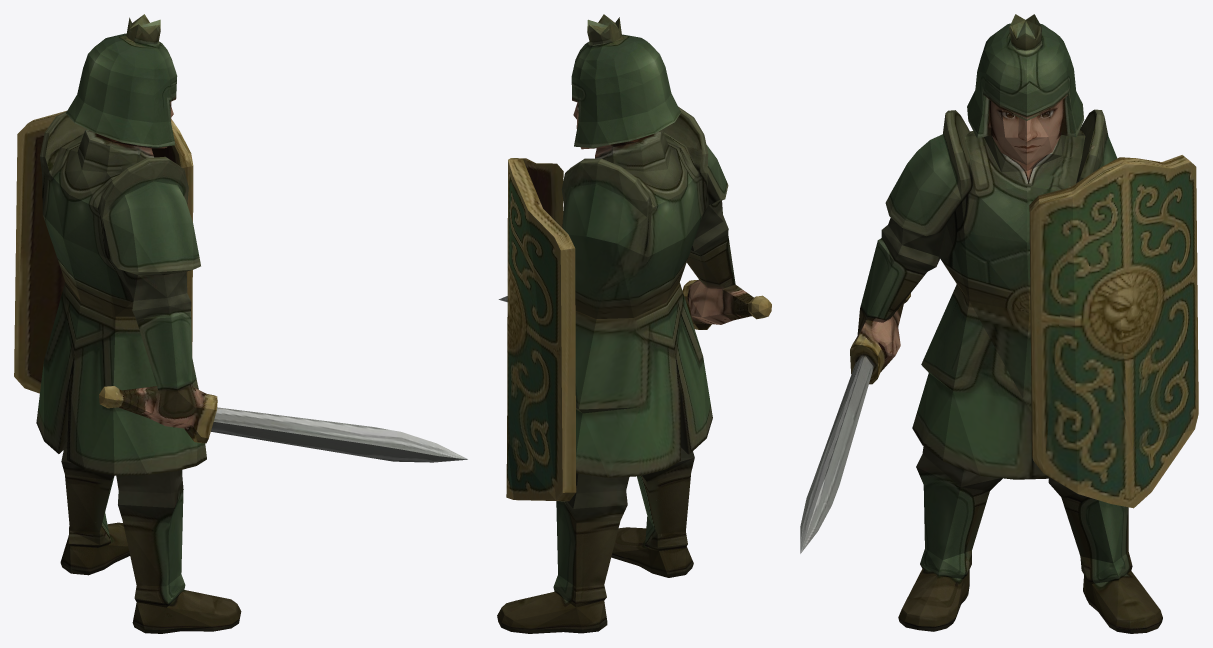
Rendered from unit.glb.
3 views of the same model, side by side, from view 1: azimuth 30°, elevation 25°; view 2: azimuth 150°, elevation 25°; view 3: azimuth 270°, elevation 25° (orthographic). The views are drawn at different scales.
Visible parts, largest first — view 1: tripo_node_341d09d1-a72d-46d8-b223-483be3883e3d; view 2: tripo_node_341d09d1-a72d-46d8-b223-483be3883e3d; view 3: tripo_node_341d09d1-a72d-46d8-b223-483be3883e3d.
Boxes of the visible parts, box(x1,y1,x2,y2) form: tripo_node_341d09d1-a72d-46d8-b223-483be3883e3d: box(14, 14, 467, 633); tripo_node_341d09d1-a72d-46d8-b223-483be3883e3d: box(497, 14, 771, 633); tripo_node_341d09d1-a72d-46d8-b223-483be3883e3d: box(800, 14, 1198, 633).
Bounding box in the file's own units: 0.584 × 0.998 × 0.6113.
1 material, 1 textured.
